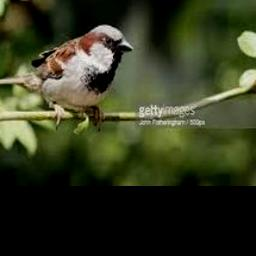Sparrow: (0, 24, 132, 131)
